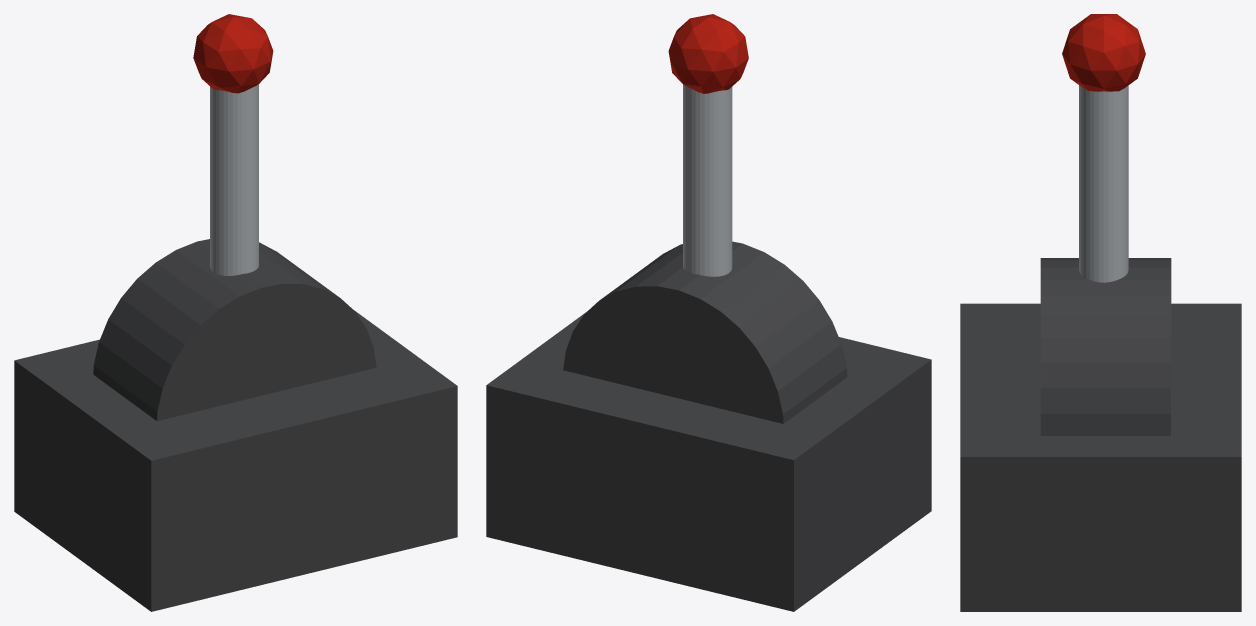
File: lever.glb
The picture shows the model from 3 angles, left to right: view 1: azimuth 30°, elevation 25°; view 2: azimuth 150°, elevation 25°; view 3: azimuth 270°, elevation 25°; orthographic projection. The views are drawn at different scales.
Parts seen in each view (by area): view 1: Cube.002, Cylinder.001, Cylinder, Icosphere; view 2: Cube.002, Cylinder.001, Cylinder, Icosphere; view 3: Cube.002, Cylinder.001, Cylinder, Icosphere.
Boxes of the visible parts, left/top/right/bottom form: Cube.002: left=14, top=309, right=457, bottom=611; Cylinder.001: left=93, top=239, right=376, bottom=420; Cylinder: left=210, top=84, right=258, bottom=275; Icosphere: left=193, top=14, right=273, bottom=93; Cube.002: left=486, top=312, right=931, bottom=611; Cylinder.001: left=563, top=241, right=847, bottom=423; Cylinder: left=683, top=84, right=732, bottom=276; Icosphere: left=668, top=14, right=748, bottom=93; Cube.002: left=960, top=303, right=1241, bottom=611; Cylinder.001: left=1040, top=258, right=1171, bottom=435; Cylinder: left=1079, top=85, right=1128, bottom=282; Icosphere: left=1062, top=14, right=1145, bottom=91.
Bounding box in the file's own units: 1.13 × 1.79 × 0.8793.
Materials: 4 (4 with a texture image).
